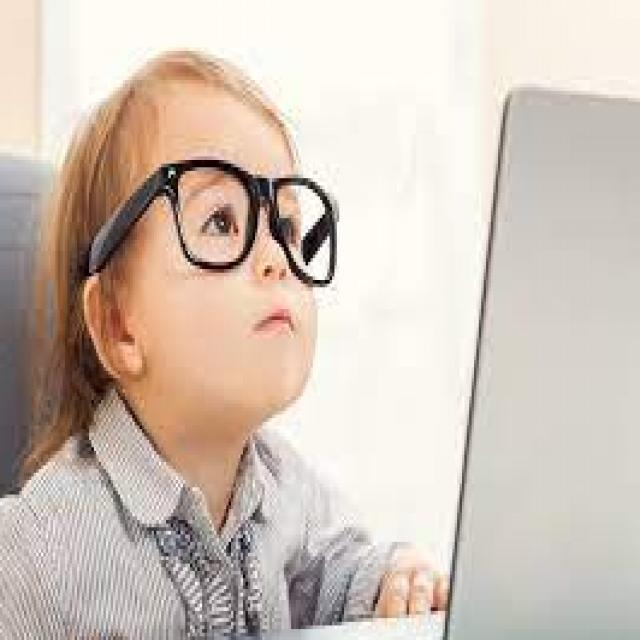Glasses: (80, 149, 340, 296)
